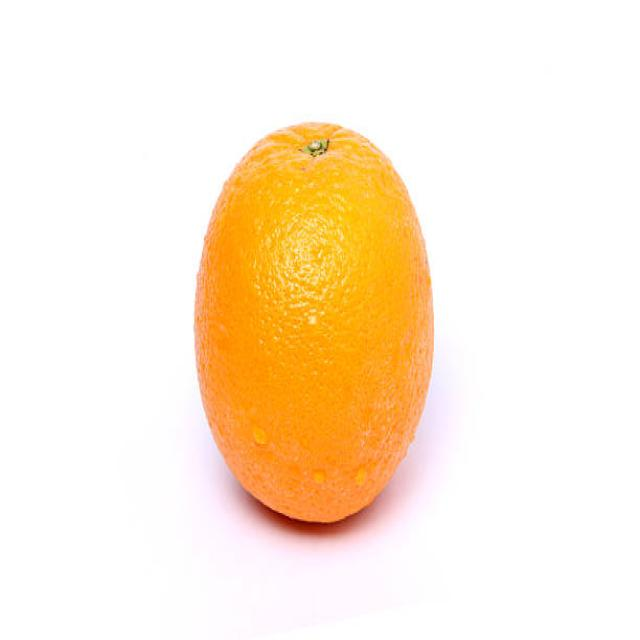Ripe: (187, 113, 438, 530)
